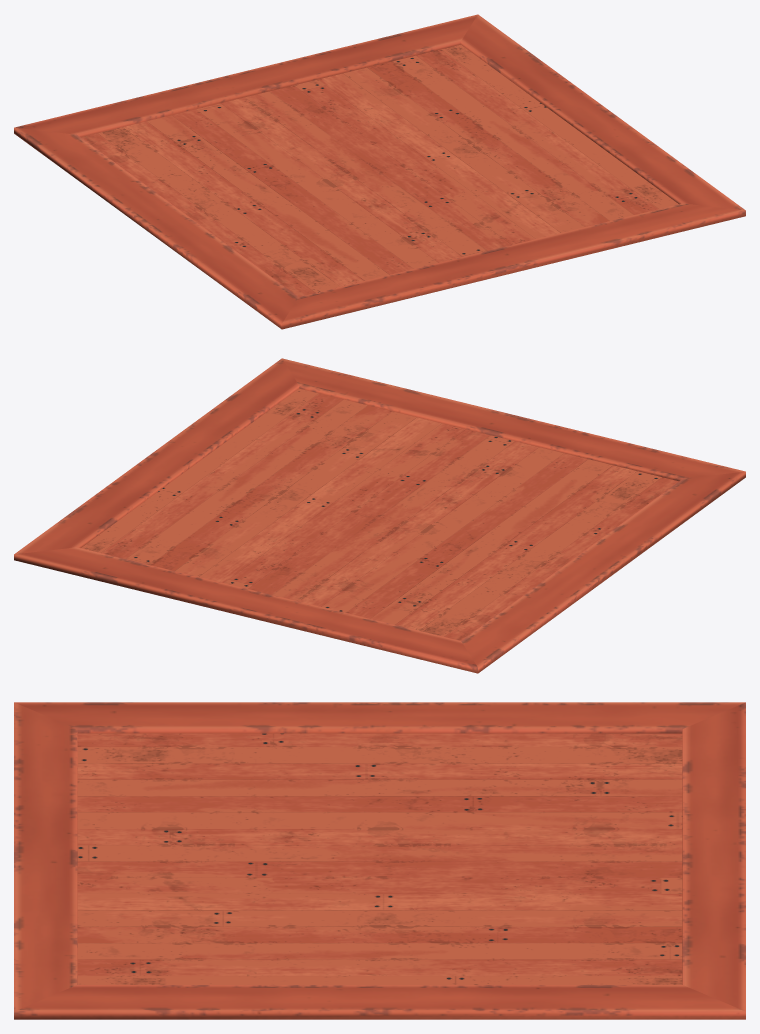
The model's file is MSH_Floor_01.FBX.
The picture shows the model from 3 angles, top to bottom: view 1: azimuth 30°, elevation 25°; view 2: azimuth 150°, elevation 25°; view 3: azimuth 270°, elevation 25°; orthographic projection. The views are drawn at different scales.
Parts seen in each view (by area): view 1: MSH_Floor_01; view 2: MSH_Floor_01; view 3: MSH_Floor_01.
Boxes of the visible parts, box(x1,y1,x2,y2) form: MSH_Floor_01: box(14, 14, 745, 329); MSH_Floor_01: box(14, 358, 745, 673); MSH_Floor_01: box(14, 702, 745, 1019).
Size of what is drawn, in the model's own units: 180 by 180 by 2.22.
